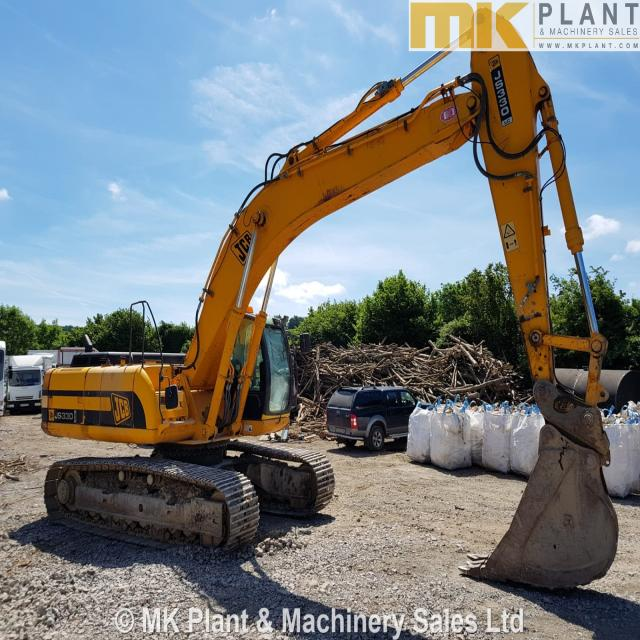excavator: (32, 14, 620, 598)
light_vehicle: (324, 378, 431, 451)
